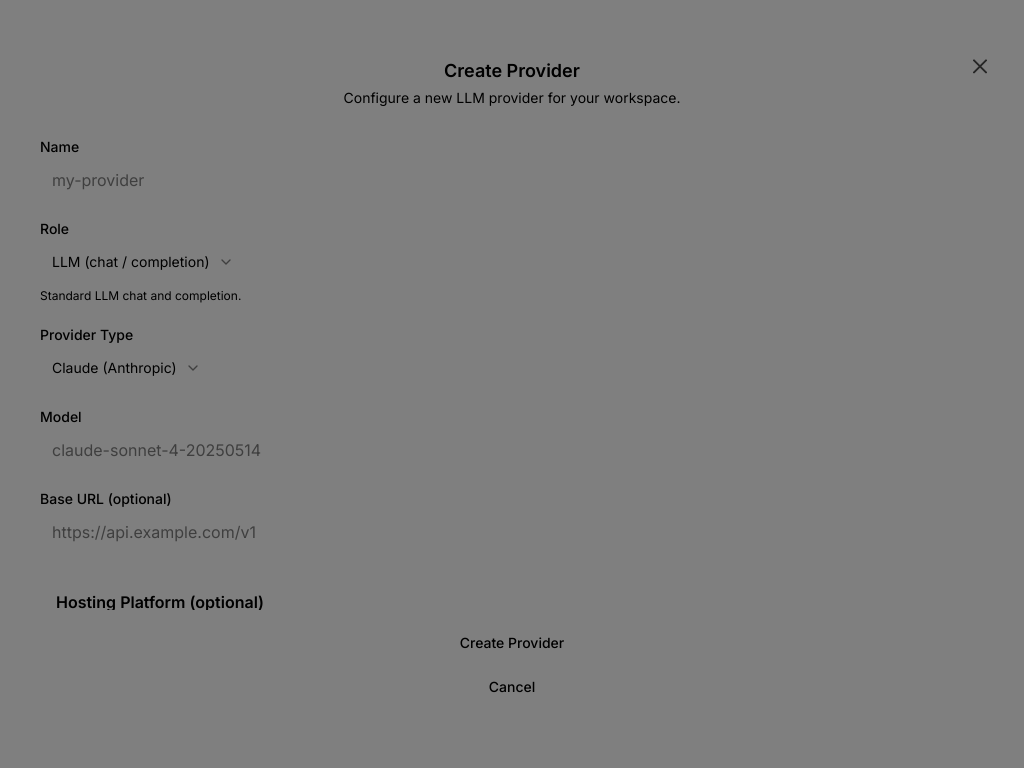
Test: ProviderDialog › inline validation (#1612) › shows an inline error and blocks submit for an invalid provider name
The width and height of the screenshot is (1024, 768).
In the field labelled "Name": (512, 180) [40, 162, 984, 198], type "Bad_Name"
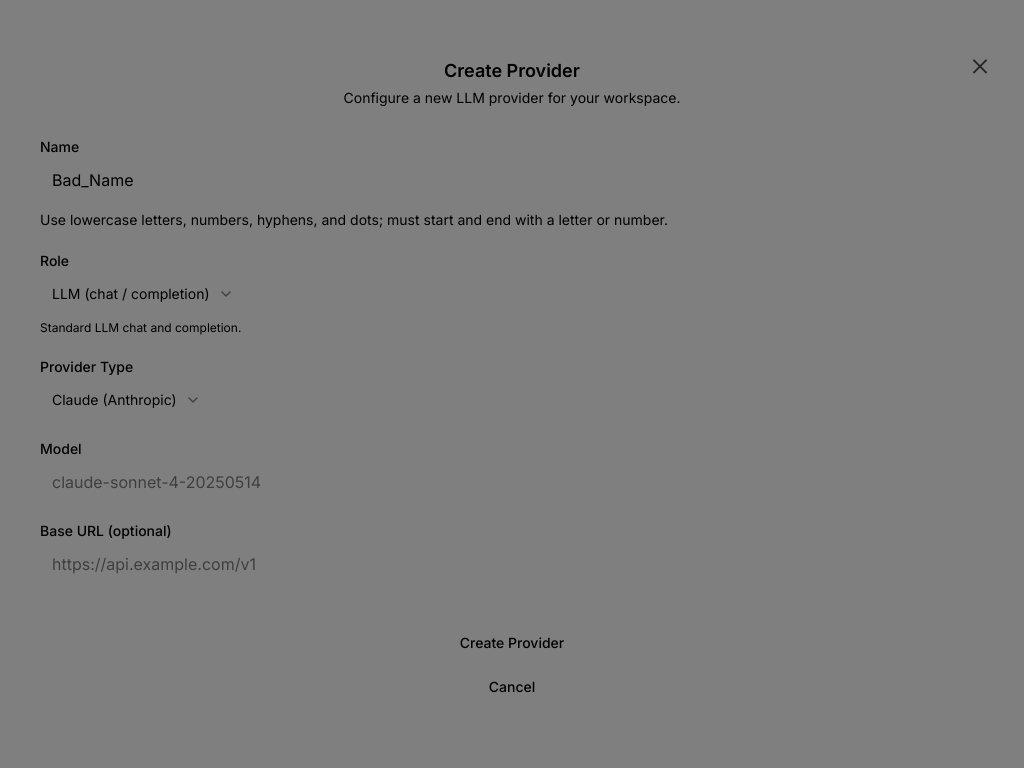
Expected: the button "Create Provider" is disabled, [40, 626, 984, 662]
Now the text "lowercase letters, numbers, hyphens" is shown, box [40, 211, 668, 228]
